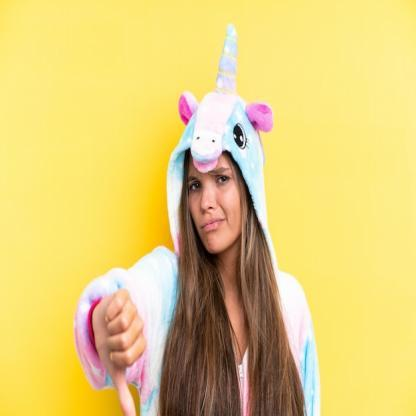thumb_down: (92, 281, 149, 416)
